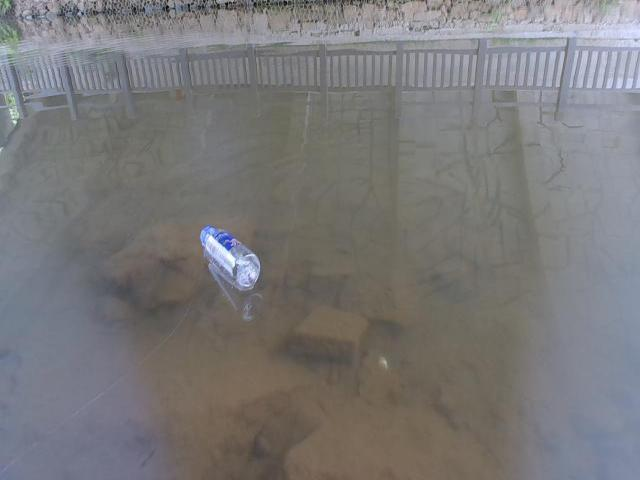Bottle: (187, 222, 270, 297)
